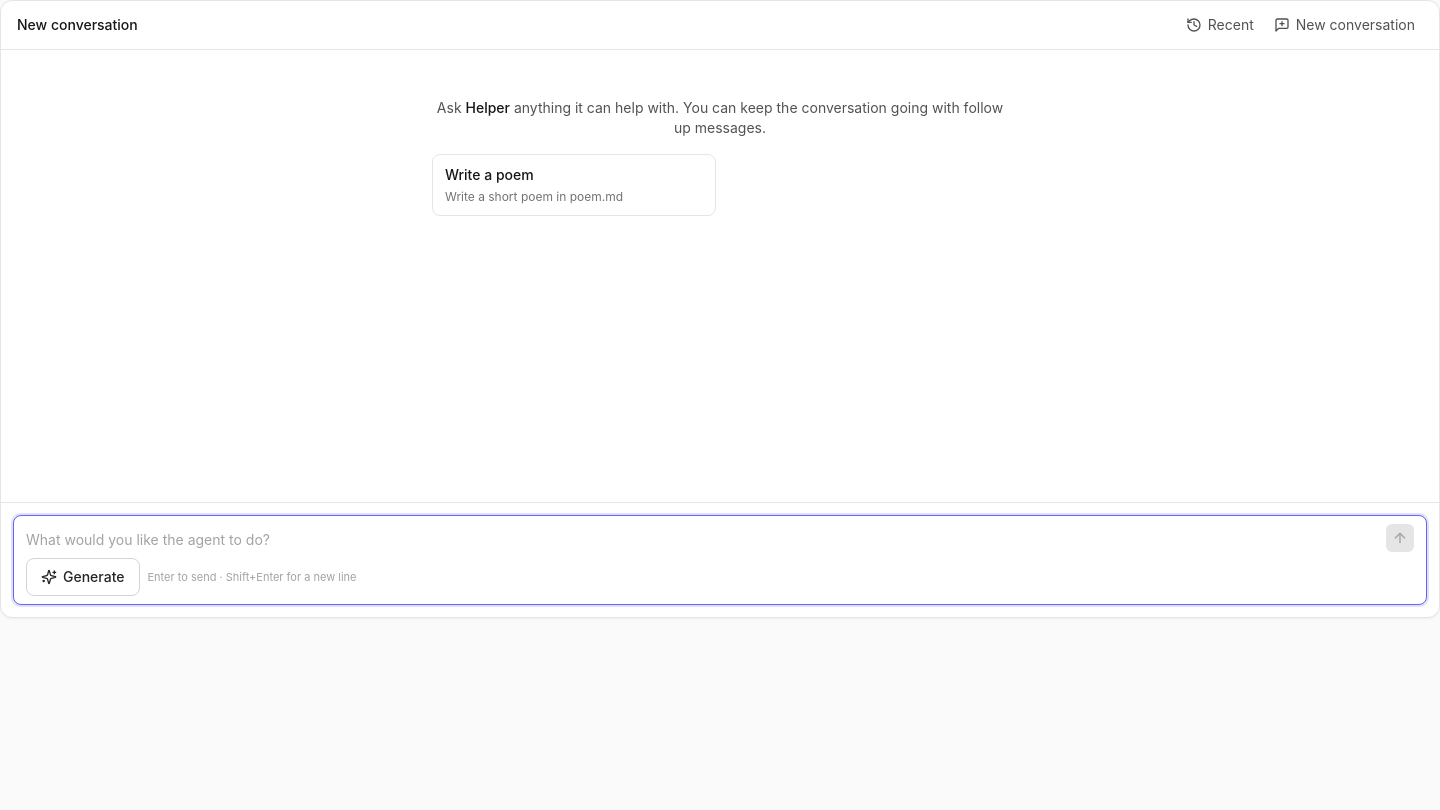
Test: ShareChat › lists the visitor's recent conversations
Click the button with aria-label "Recent conversations" at (1220, 25), box [1178,9,1262,41]
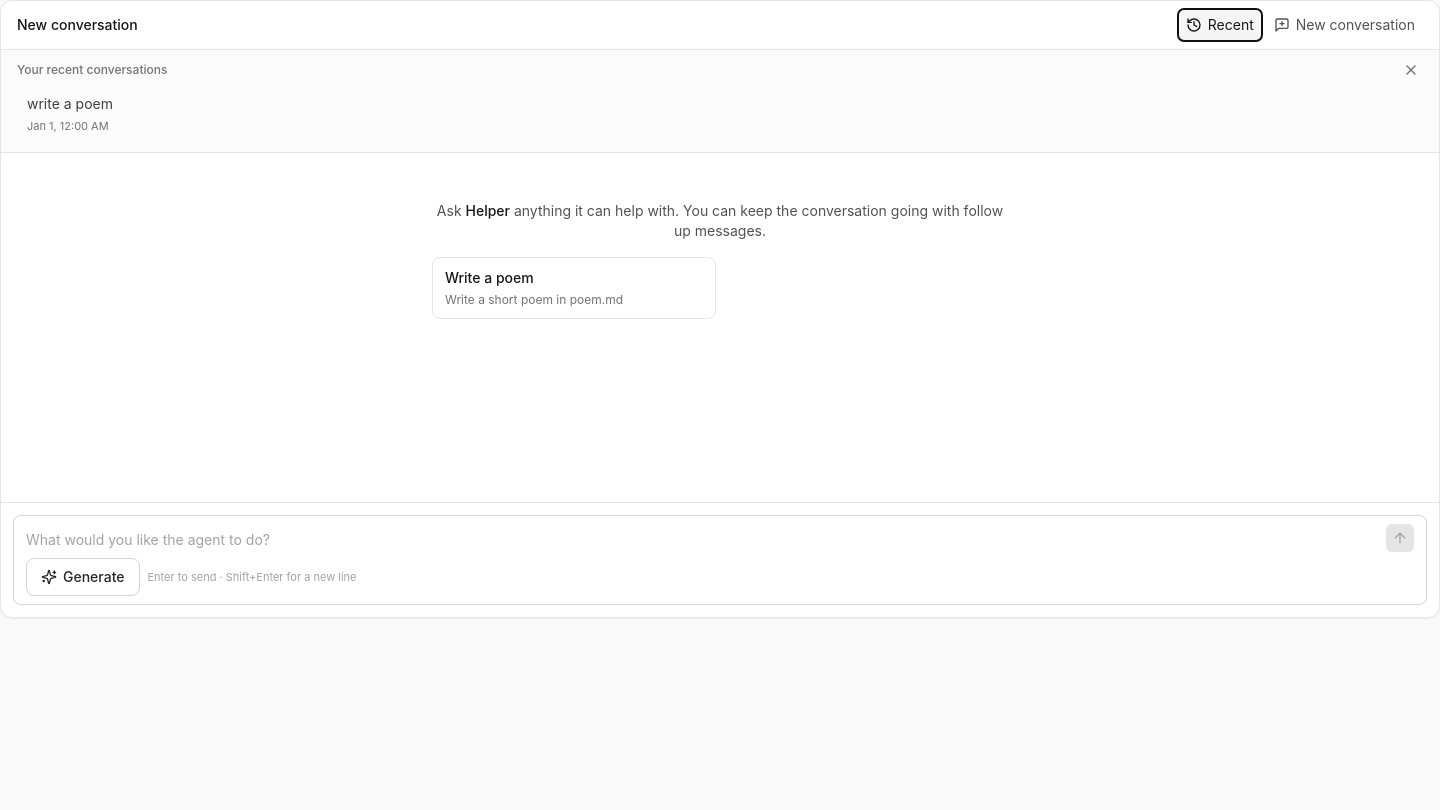
Now the text "write a poem" is shown, box [27,95,113,112]
